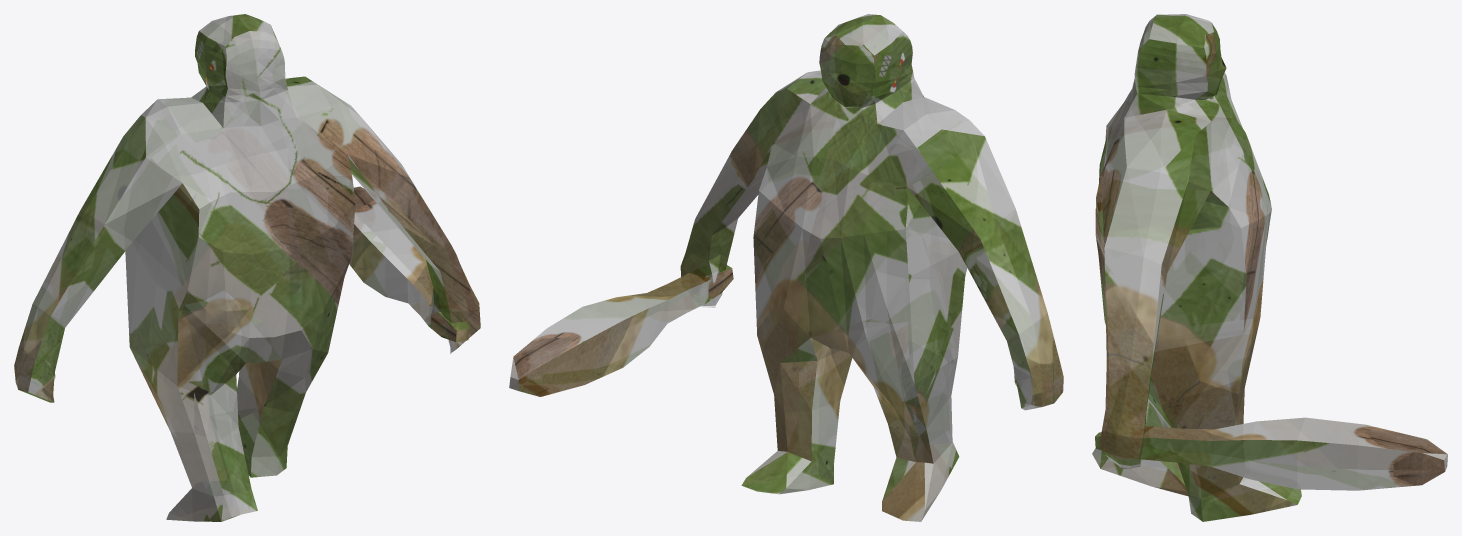
Rendered from Enemigo25.obj.
3 renders of one model, left to right at view 1: azimuth 30°, elevation 25°; view 2: azimuth 150°, elevation 25°; view 3: azimuth 270°, elevation 25°, orthographic. The views are drawn at different scales.
Parts seen in each view (by area): view 1: Cube; view 2: Cube; view 3: Cube.
Part boxes in pixels (<box>): Cube: <box>14,14,480,521</box>; Cube: <box>509,14,1063,521</box>; Cube: <box>1092,14,1447,521</box>.
Size of the model in its own units: 2.67 by 2.82 by 1.82.
